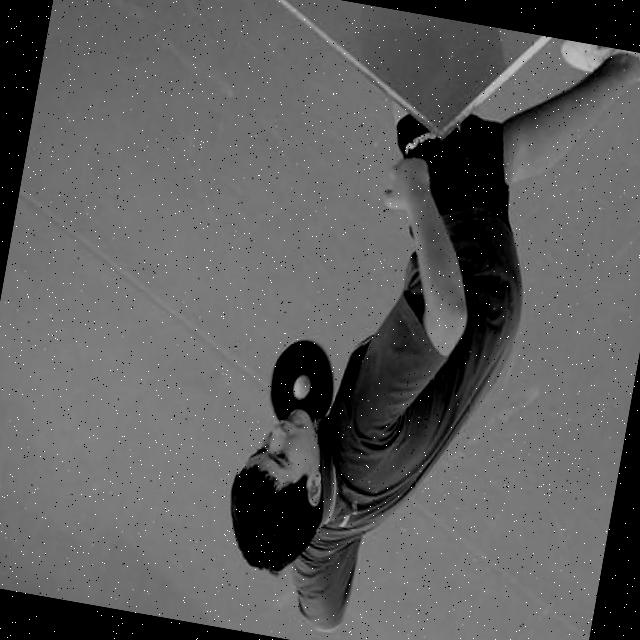ping-pong-ball: (290, 370, 312, 400)
